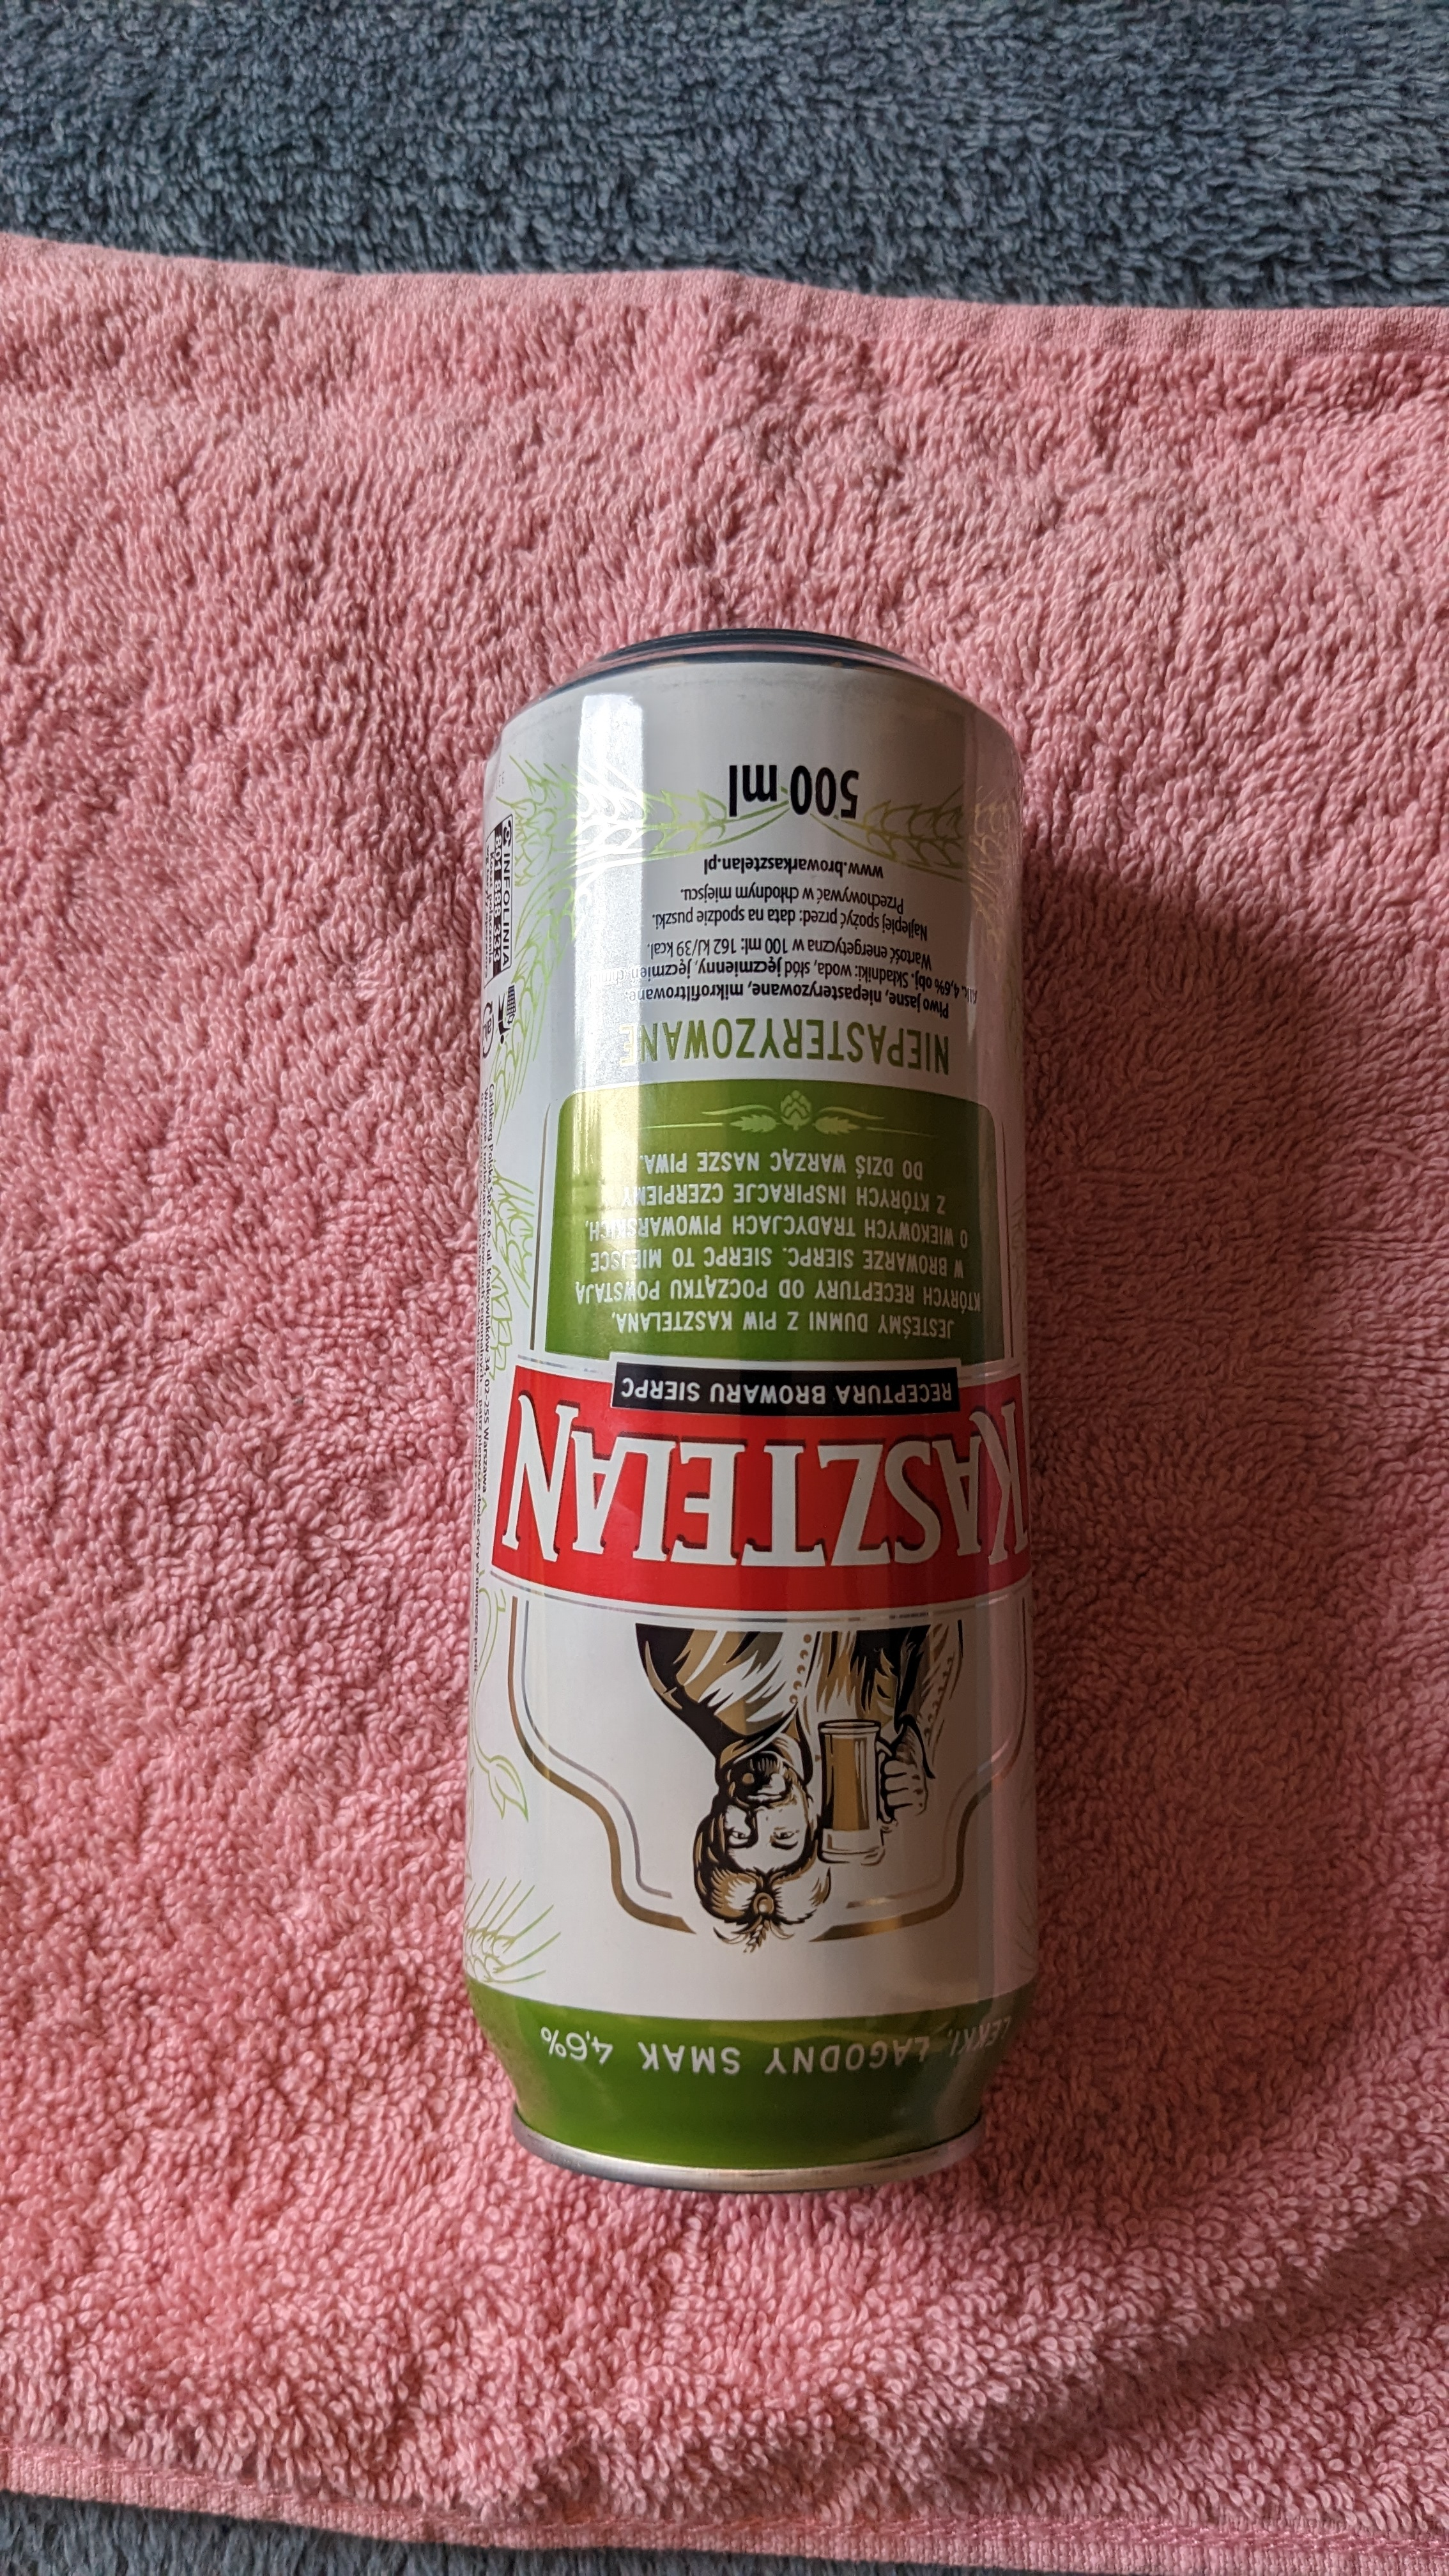kasztelan: (478, 635, 1074, 2213)
